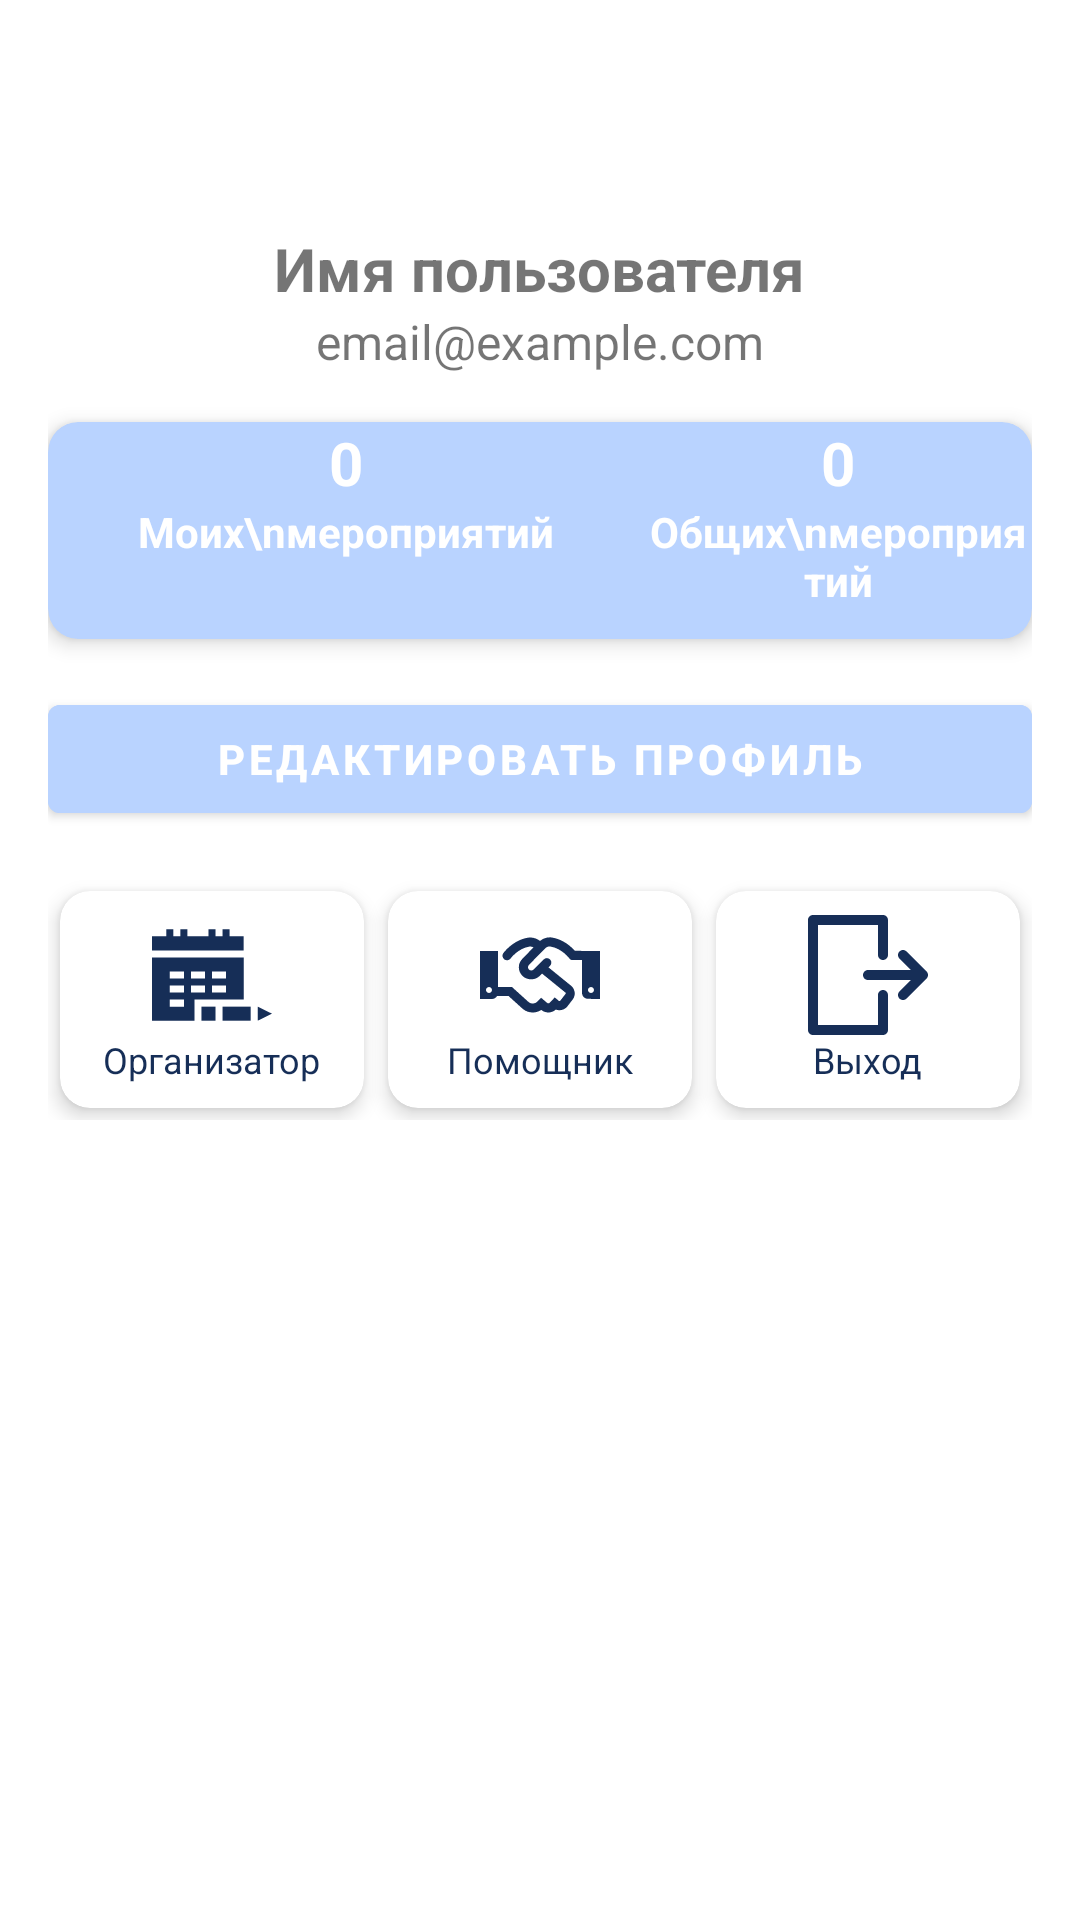

Screen size 1080px x 1920px. Icon name, then its box in pixels as (x1, y1, x2, y2):
handshake: (480, 937, 600, 1013)
